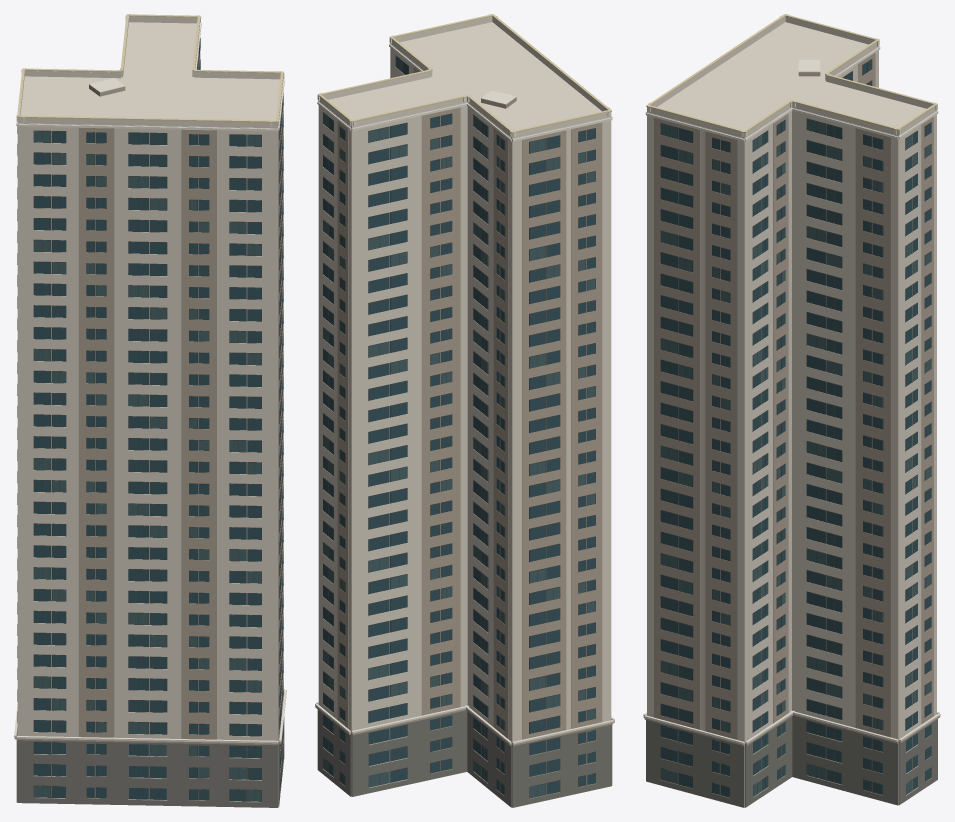
File: bespoke-raemian-prestige-112.glb
The picture shows the model from 3 angles, left to right: view 1: azimuth 30°, elevation 25°; view 2: azimuth 150°, elevation 25°; view 3: azimuth 270°, elevation 25°; orthographic projection.
Visible parts, largest first — view 1: Prestige_warm_ivory_rendered_wall017, Prestige_recessed_blue_green_window017, Prestige_wide_taupe_pilasters017, Prestige_dark_bronze_thin_window_frame017, Prestige_dark_brown_grey_stone_base017, Prestige_muted_green_window_pair017, Prestige_pale_limestone_band017, Prestige_cream_gold_crown_coping017; view 2: Prestige_warm_ivory_rendered_wall017, Prestige_wide_taupe_pilasters017, Prestige_recessed_blue_green_window017, Prestige_dark_bronze_thin_window_frame017, Prestige_dark_brown_grey_stone_base017, Prestige_muted_green_window_pair017, Prestige_pale_limestone_band017, Prestige_cream_gold_crown_coping017; view 3: Prestige_warm_ivory_rendered_wall017, Prestige_wide_taupe_pilasters017, Prestige_recessed_blue_green_window017, Prestige_dark_bronze_thin_window_frame017, Prestige_dark_brown_grey_stone_base017, Prestige_muted_green_window_pair017, Prestige_pale_limestone_band017, Prestige_cream_gold_crown_coping017.
Boxes of the visible parts, x1=… form: Prestige_warm_ivory_rendered_wall017: x1=17, y1=16, x2=283, y2=805; Prestige_recessed_blue_green_window017: x1=17, y1=38, x2=283, y2=801; Prestige_wide_taupe_pilasters017: x1=14, y1=48, x2=283, y2=800; Prestige_dark_bronze_thin_window_frame017: x1=17, y1=38, x2=283, y2=801; Prestige_dark_brown_grey_stone_base017: x1=16, y1=692, x2=284, y2=807; Prestige_muted_green_window_pair017: x1=17, y1=65, x2=283, y2=801; Prestige_pale_limestone_band017: x1=14, y1=17, x2=286, y2=743; Prestige_cream_gold_crown_coping017: x1=16, y1=14, x2=284, y2=122; Prestige_warm_ivory_rendered_wall017: x1=318, y1=16, x2=611, y2=807; Prestige_wide_taupe_pilasters017: x1=315, y1=67, x2=614, y2=798; Prestige_recessed_blue_green_window017: x1=323, y1=62, x2=595, y2=795; Prestige_dark_bronze_thin_window_frame017: x1=323, y1=55, x2=595, y2=798; Prestige_dark_brown_grey_stone_base017: x1=317, y1=709, x2=612, y2=807; Prestige_muted_green_window_pair017: x1=323, y1=56, x2=595, y2=798; Prestige_pale_limestone_band017: x1=315, y1=38, x2=614, y2=744; Prestige_cream_gold_crown_coping017: x1=317, y1=14, x2=611, y2=133; Prestige_warm_ivory_rendered_wall017: x1=647, y1=16, x2=936, y2=807; Prestige_wide_taupe_pilasters017: x1=643, y1=52, x2=940, y2=798; Prestige_recessed_blue_green_window017: x1=660, y1=59, x2=931, y2=797; Prestige_dark_bronze_thin_window_frame017: x1=660, y1=59, x2=931, y2=796; Prestige_dark_brown_grey_stone_base017: x1=646, y1=715, x2=937, y2=807; Prestige_muted_green_window_pair017: x1=660, y1=77, x2=931, y2=796; Prestige_pale_limestone_band017: x1=643, y1=41, x2=940, y2=744; Prestige_cream_gold_crown_coping017: x1=646, y1=14, x2=937, y2=133.
Bounding box in the file's own units: 33.58 × 87.7 × 34.94.
